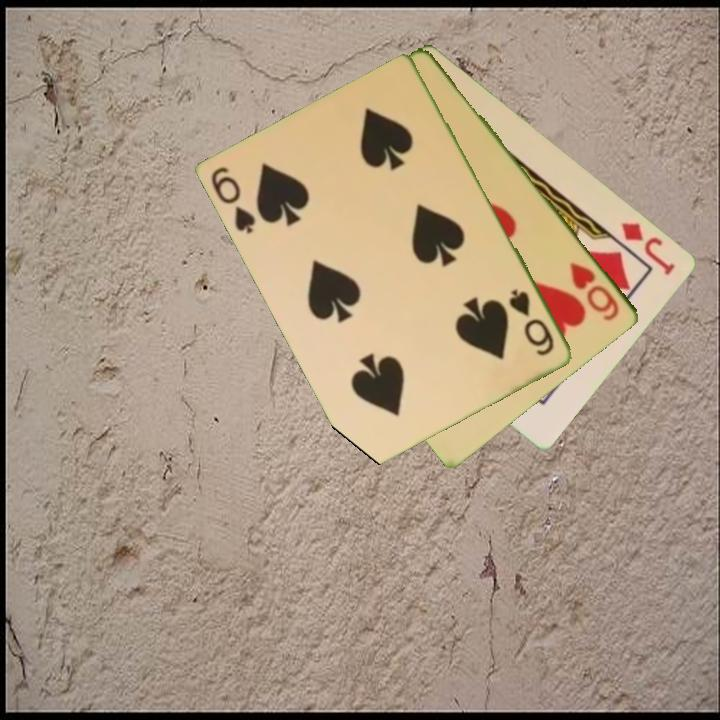6h: (566, 258, 623, 324)
6s: (505, 286, 558, 359), (208, 163, 259, 238)
Jd: (618, 218, 679, 279)
